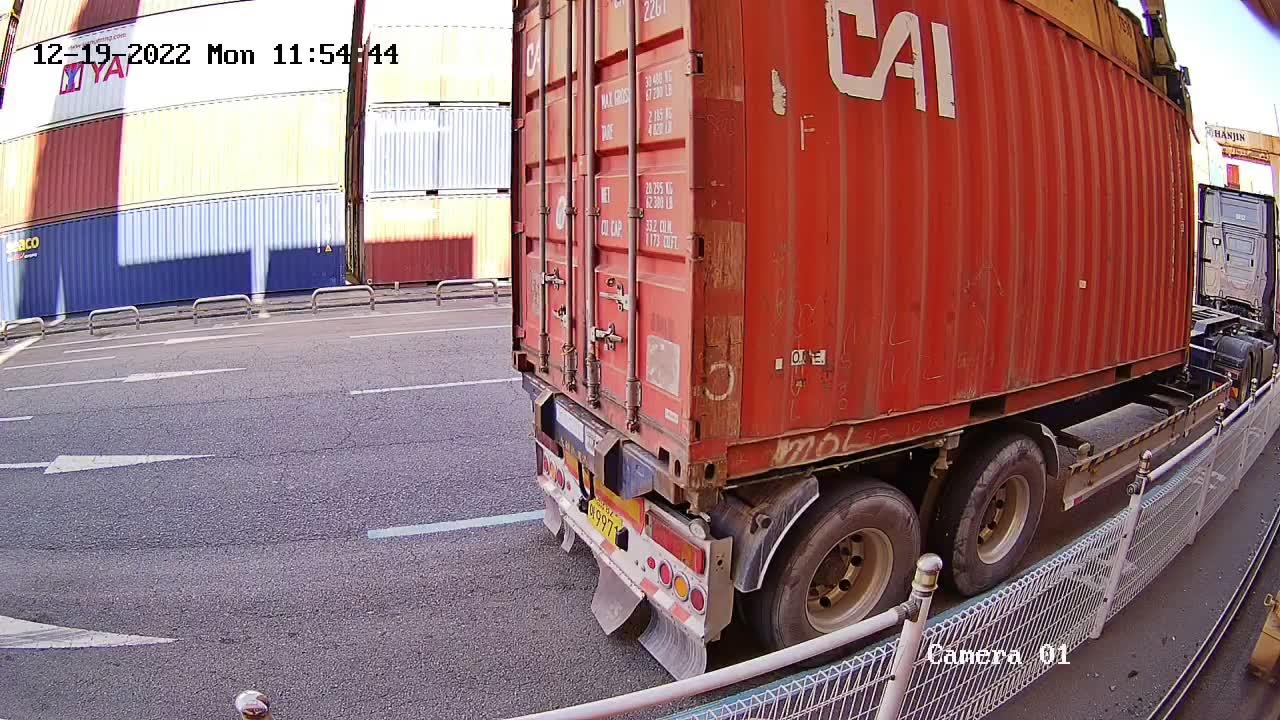Chassis: (520, 373, 689, 508)
Cone: (685, 488, 720, 521)
Hole_L: (690, 425, 741, 489), (512, 330, 544, 384)
Hole_R: (647, 399, 690, 490)
Tire: (775, 490, 923, 643), (954, 442, 1049, 594)
